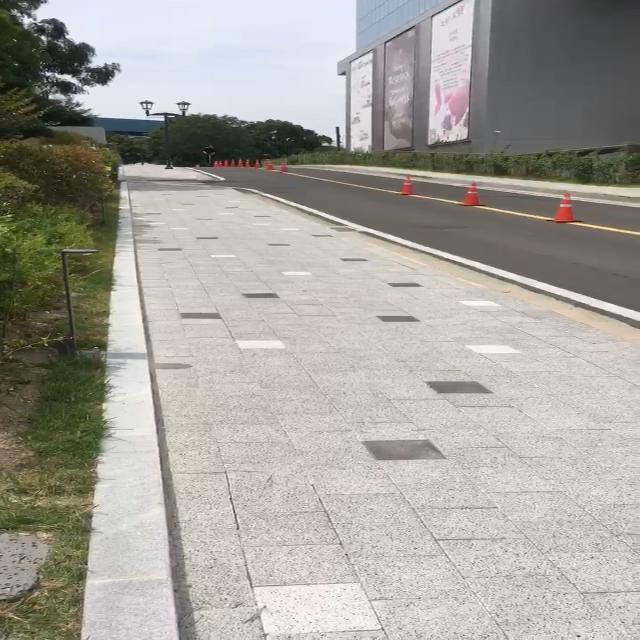obstacle: (547, 190, 585, 225), (449, 177, 486, 205), (391, 172, 428, 198)
road: (199, 165, 640, 350)
sidewalk: (83, 180, 640, 640), (327, 164, 640, 202), (124, 165, 212, 181)
